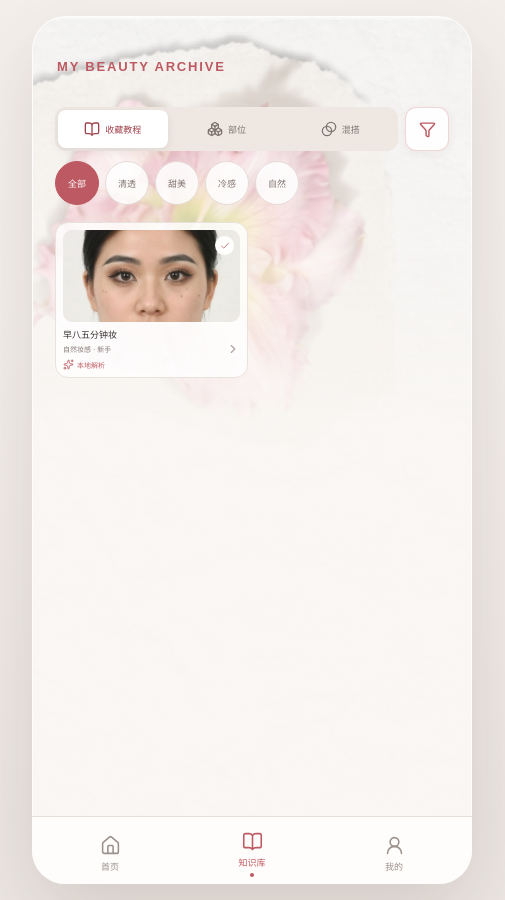
it: replaces the product tab with the embedded mix editor
The width and height of the screenshot is (505, 900).
Click the tab "混搭".
click(340, 129)  # box top-left (285, 110), bottom-right (395, 148)
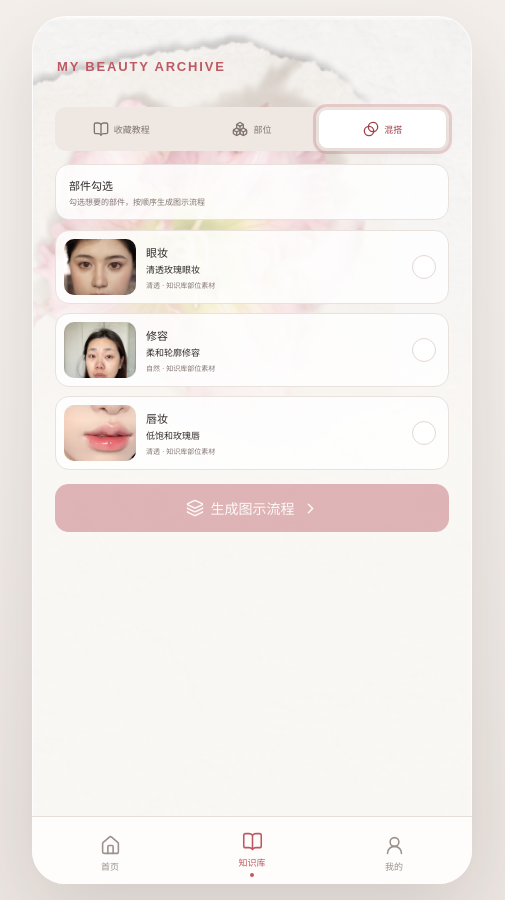
Check: the element named "混搭编辑" is shown, box top-left (55, 151), bottom-right (449, 532)
Check: the button with aria-label "勾选修容" is shown, box top-left (55, 313), bottom-right (449, 387)
Check: the button with aria-label "勾选唇妆" is shown, box top-left (55, 396), bottom-right (449, 470)
